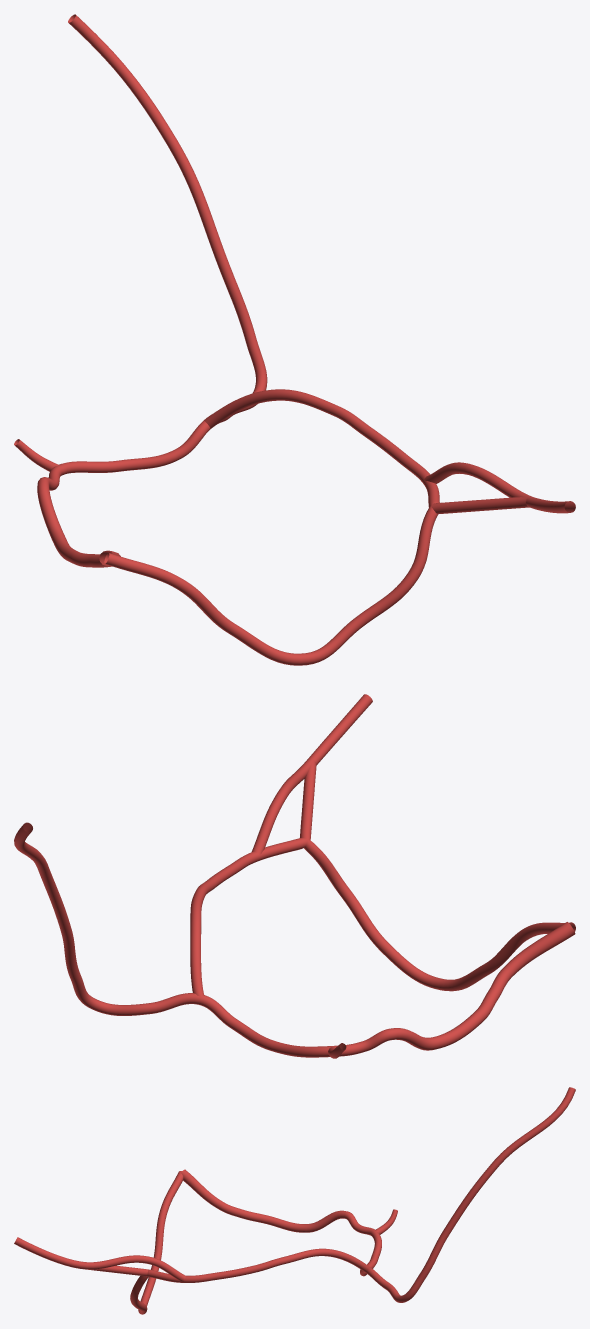
3 views of the same model, one above another, from view 1: azimuth 30°, elevation 25°; view 2: azimuth 150°, elevation 25°; view 3: azimuth 270°, elevation 25° (orthographic). The views are drawn at different scales.
Visible parts, largest first — view 1: 左侧髌网; view 2: 左侧髌网; view 3: 左侧髌网.
Part boxes in pixels (x1=…): 左侧髌网: x1=14, y1=14, x2=575, y2=665; 左侧髌网: x1=14, y1=694, x2=575, y2=1058; 左侧髌网: x1=14, y1=1087, x2=575, y2=1314.
Bounding box in the file's own units: 0.0904 × 0.0938 × 0.1884.
